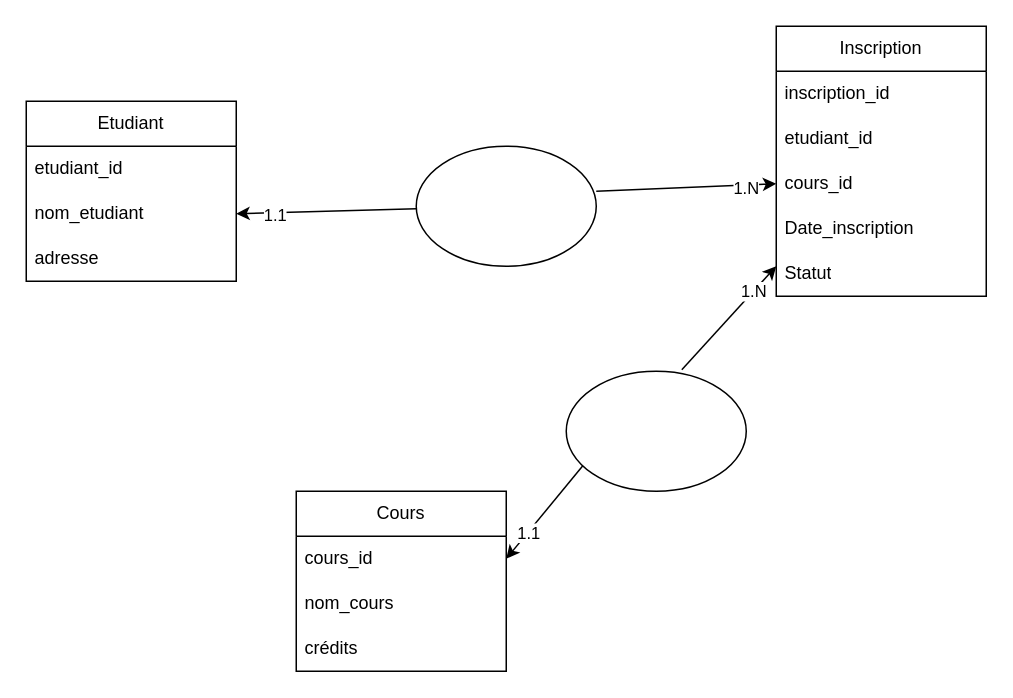
The diagram is 1013 pixels wide and 698 high, and some of its shapes have lost their labels. Here are the shapes that lost their labels. From the top down, the box of each, then its label:
(415, 145, 596, 266): Valide
(565, 370, 746, 491): accède
